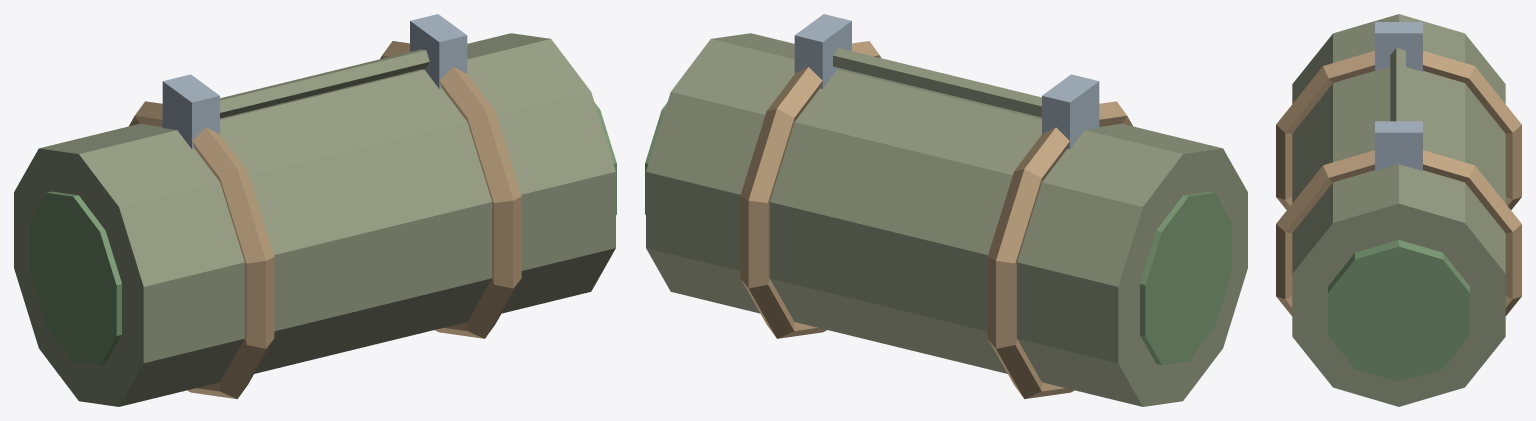
Rendered from wipe-day-survival-island-bedroll-43c8d3f8__27459.glb.
The picture shows the model from 3 angles, left to right: view 1: azimuth 30°, elevation 25°; view 2: azimuth 150°, elevation 25°; view 3: azimuth 270°, elevation 25°; orthographic projection. The views are drawn at different scales.
Visible parts, largest first — view 1: bedroll; view 2: bedroll; view 3: bedroll.
Part boxes in pixels (x1,y1,x2,y2): bedroll: (14, 14, 616, 406); bedroll: (645, 14, 1247, 406); bedroll: (1276, 14, 1521, 406).
Size of the model in its own units: 0.89 by 0.517 by 0.4603.
